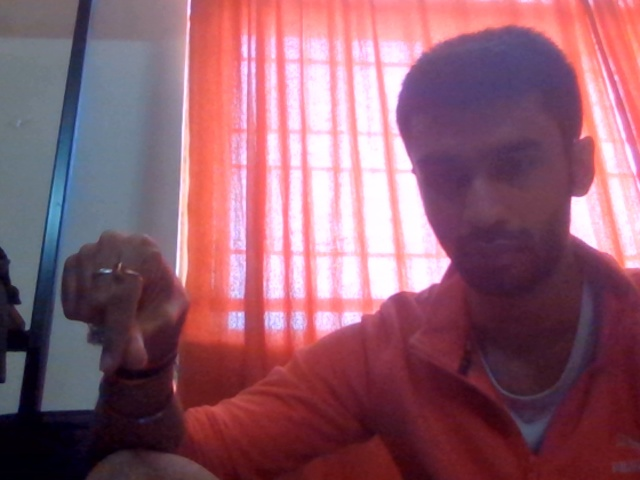Q: (53, 225, 221, 423)
